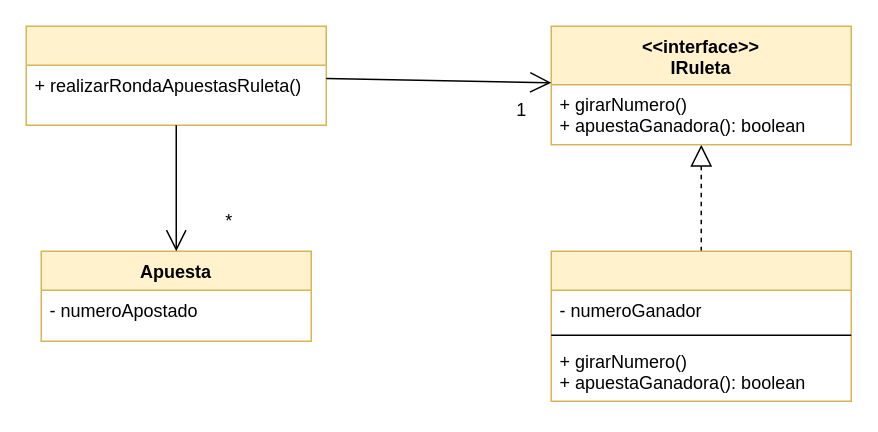
This 878x432 diagram has some shape labels left out. The box of each missing label's shape, as (x1, y1, x2, y2) in pixels:
Casino: (25, 25, 326, 125)
Ruleta: (550, 250, 851, 401)
